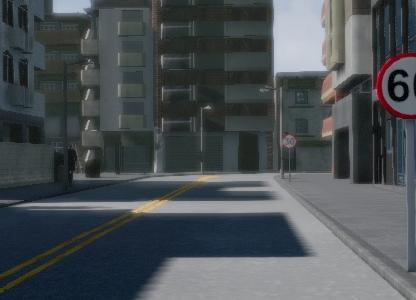Speed_30: (0, 58, 40, 125)
